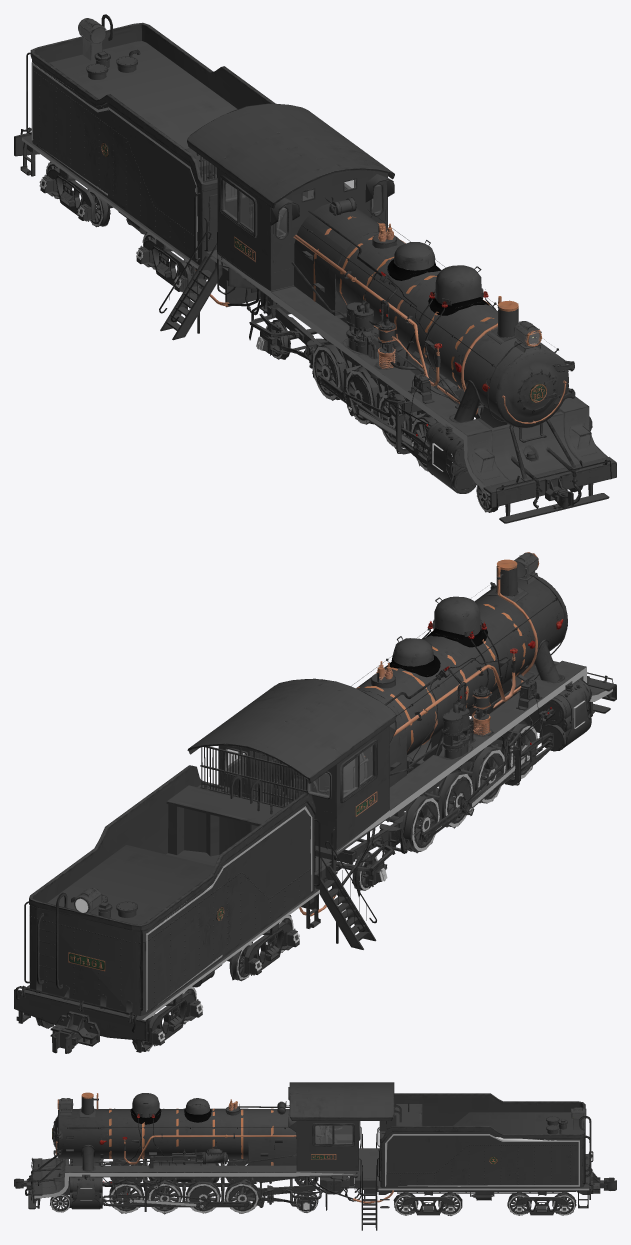
File: mika.glb
3 views of the same model, one above another, from view 1: azimuth 30°, elevation 25°; view 2: azimuth 150°, elevation 25°; view 3: azimuth 270°, elevation 25° (orthographic). The views are drawn at different scales.
Parts seen in each view (by area): view 1: defaultMaterial.085, defaultMaterial.056, defaultMaterial.023, defaultMaterial.005, defaultMaterial.021, defaultMaterial.148, defaultMaterial.007, defaultMaterial.128, defaultMaterial.095, defaultMaterial.144, defaultMaterial.146, defaultMaterial.057 (+12 smaller); view 2: defaultMaterial.085, defaultMaterial.023, defaultMaterial.056, defaultMaterial.083, defaultMaterial.007, defaultMaterial.128, defaultMaterial.093, defaultMaterial.095, defaultMaterial.021, defaultMaterial.144, defaultMaterial.146, defaultMaterial.088 (+13 smaller); view 3: defaultMaterial.085, defaultMaterial.056, defaultMaterial.023, defaultMaterial.021, defaultMaterial.007, defaultMaterial.088, defaultMaterial.137, defaultMaterial.146, defaultMaterial.144, defaultMaterial.148, defaultMaterial.070, defaultMaterial.008 (+31 smaller).
Part boxes in pixels (x1,y1,x2,y2): defaultMaterial.085: [26, 14, 282, 265]; defaultMaterial.056: [335, 226, 575, 442]; defaultMaterial.023: [187, 103, 394, 291]; defaultMaterial.005: [464, 404, 607, 486]; defaultMaterial.021: [276, 188, 398, 315]; defaultMaterial.148: [483, 419, 616, 523]; defaultMaterial.007: [271, 286, 585, 433]; defaultMaterial.128: [401, 422, 476, 493]; defaultMaterial.095: [159, 231, 222, 340]; defaultMaterial.144: [249, 304, 337, 374]; defaultMaterial.146: [342, 327, 479, 454]; defaultMaterial.057: [339, 223, 566, 423]; defaultMaterial.085: [24, 765, 320, 1015]; defaultMaterial.023: [187, 678, 396, 850]; defaultMaterial.056: [357, 567, 567, 755]; defaultMaterial.083: [14, 979, 151, 1053]; defaultMaterial.007: [389, 663, 582, 817]; defaultMaterial.128: [514, 679, 591, 773]; defaultMaterial.093: [200, 746, 307, 807]; defaultMaterial.095: [314, 841, 376, 949]; defaultMaterial.021: [261, 690, 406, 795]; defaultMaterial.144: [336, 814, 403, 888]; defaultMaterial.146: [387, 696, 521, 821]; defaultMaterial.088: [29, 806, 319, 1020]; defaultMaterial.085: [377, 1093, 591, 1187]; defaultMaterial.056: [52, 1093, 248, 1176]; defaultMaterial.023: [288, 1082, 394, 1170]; defaultMaterial.021: [248, 1101, 342, 1165]; defaultMaterial.007: [69, 1165, 296, 1175]; defaultMaterial.088: [378, 1134, 589, 1190]; defaultMaterial.137: [69, 1174, 144, 1209]; defaultMaterial.146: [113, 1158, 256, 1211]; defaultMaterial.144: [245, 1177, 326, 1210]; defaultMaterial.148: [14, 1155, 72, 1209]; defaultMaterial.070: [377, 1154, 589, 1193]; defaultMaterial.008: [69, 1173, 296, 1176].
Size of the model in its own units: 5.29 by 4.61 by 22.63.
14 materials, 14 textured.
